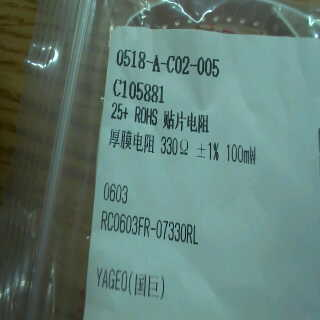330R: (159, 133, 192, 159)
